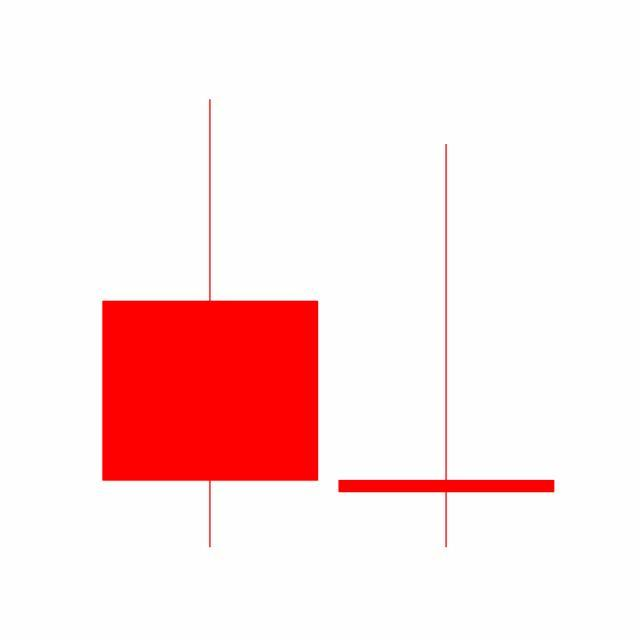Gravestone Doji: (328, 141, 566, 553)
